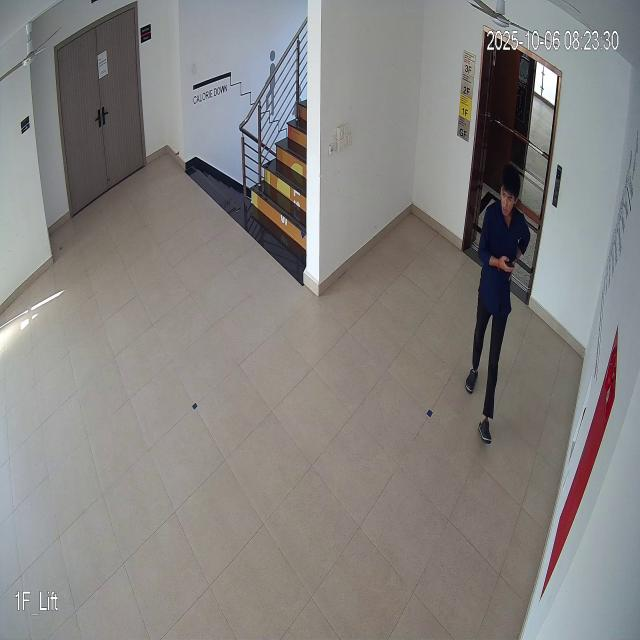face: (493, 163, 527, 227)
